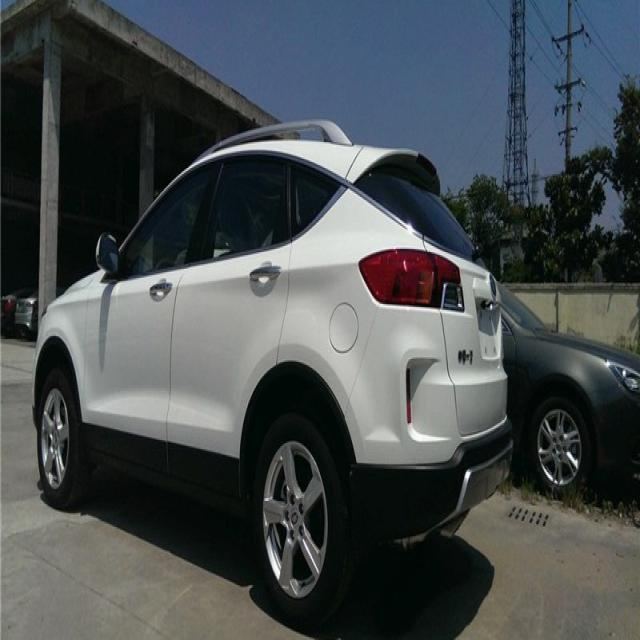back_glass: (348, 166, 486, 269)
back_left_side_light: (356, 250, 466, 308)
door: (163, 154, 290, 500)
front_left_side_door: (80, 157, 217, 492)
front_left_side_mirror: (95, 228, 119, 280)
rear_bumper: (338, 322, 512, 550)
wheel: (257, 414, 341, 622), (37, 367, 78, 507)
